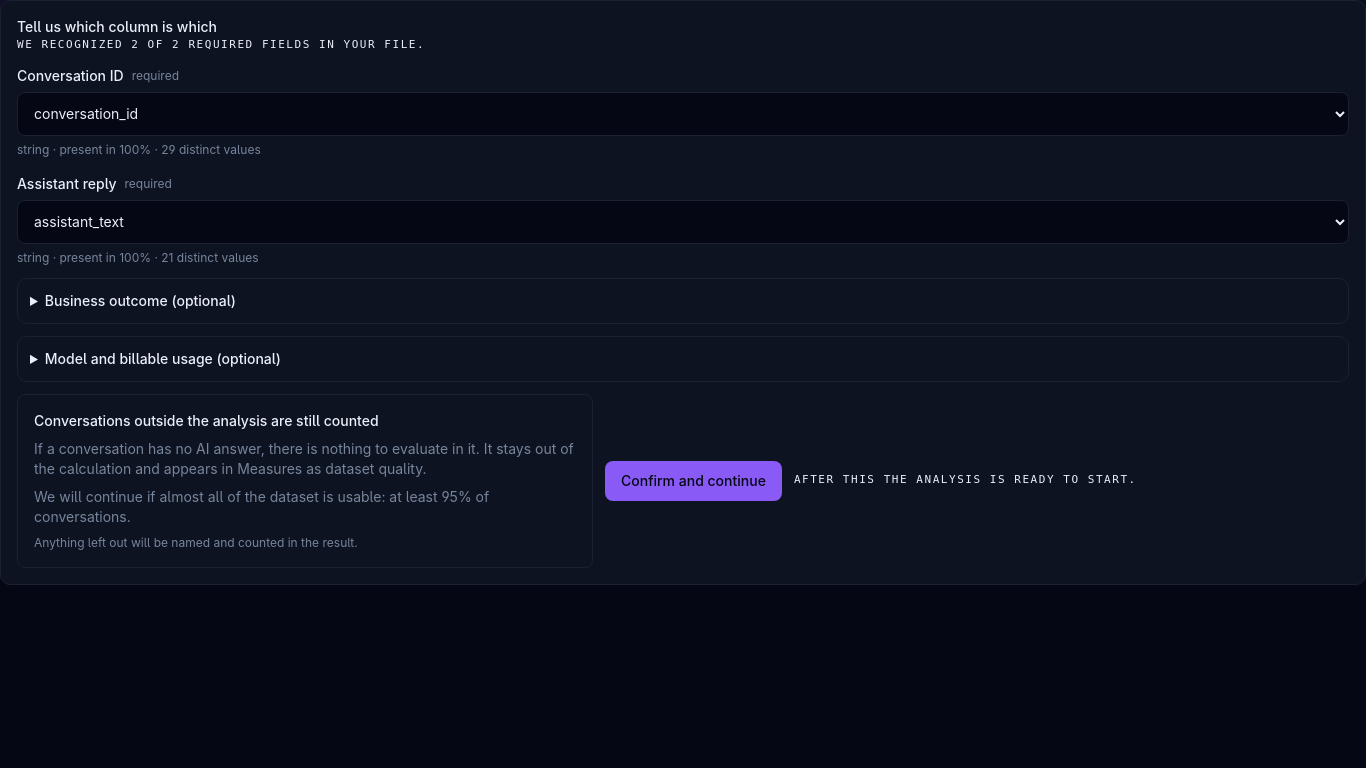
Test case: MappingStep · qualidade da base não vira decisão agressiva › recusa de entrada na confirmação orienta revisar campos, não esperar
The image size is (1366, 768).
Click the button "Confirm and continue" at point(693, 480), box x1=605 y1=460 x2=782 y2=500
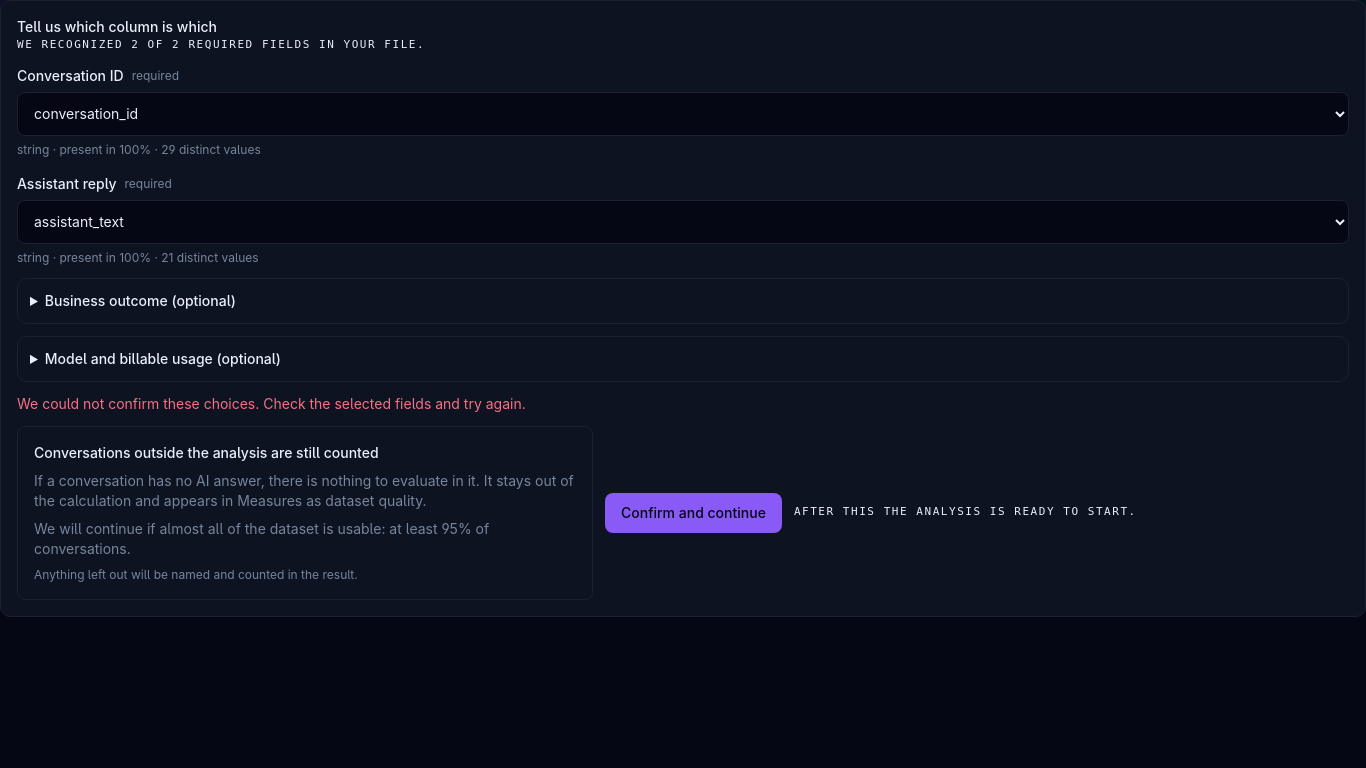
Check: the text "We could not confirm these choices. Check the selected fields and try again." is shown, box x1=17 y1=394 x2=526 y2=412
